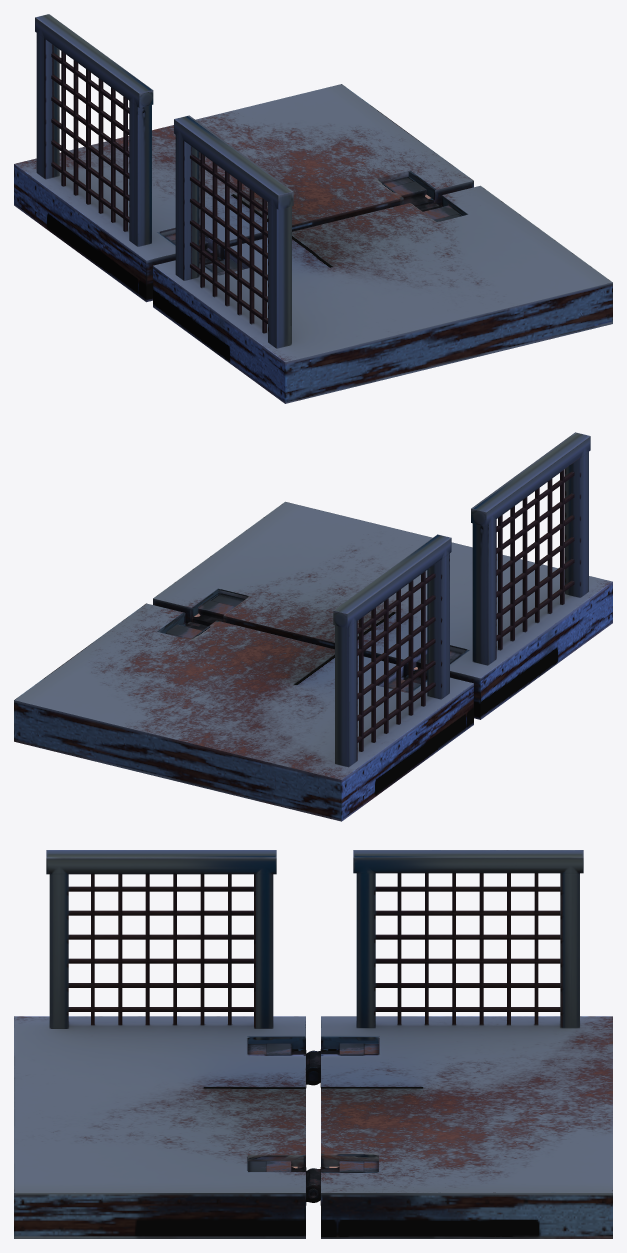
File: Bridge.fbx
3 renders of one model, top to bottom at view 1: azimuth 30°, elevation 25°; view 2: azimuth 150°, elevation 25°; view 3: azimuth 270°, elevation 25°, orthographic. The views are drawn at different scales.
Visible parts, largest first — view 1: Bridge; view 2: Bridge; view 3: Bridge.
Part boxes in pixels (left/top/right/bottom): Bridge: left=14, top=14, right=612, bottom=403; Bridge: left=14, top=432, right=612, bottom=821; Bridge: left=14, top=850, right=612, bottom=1238.
Size of the model in its own units: 221 by 126 by 317.
